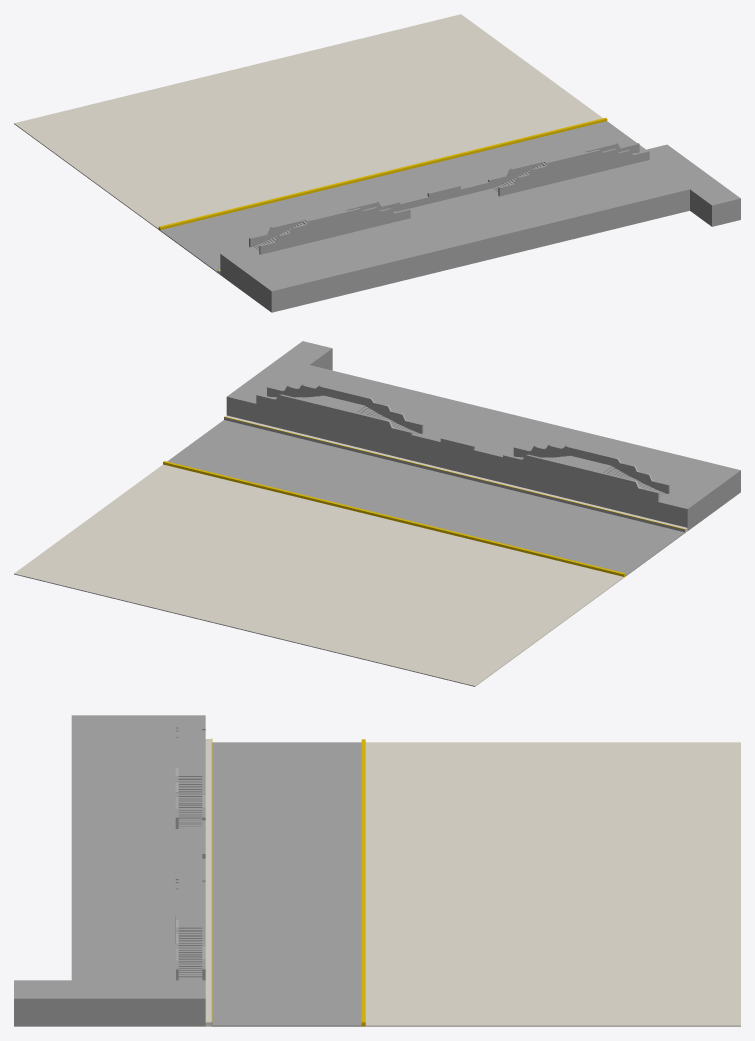
File: Calle_principal.fbx
3 renders of one model, top to bottom at view 1: azimuth 30°, elevation 25°; view 2: azimuth 150°, elevation 25°; view 3: azimuth 270°, elevation 25°, orthographic. The views are drawn at different scales.
Parts seen in each view (by area): view 1: polySurface4, polySurface7, polySurface6; view 2: polySurface4, polySurface7, polySurface6; view 3: polySurface4, polySurface6, polySurface7.
Part boxes in pixels (box(x1,y1,x2,y2)): polySurface4: box(14, 14, 740, 312); polySurface7: box(249, 218, 316, 254); polySurface6: box(582, 143, 649, 173); polySurface4: box(14, 341, 740, 686); polySurface7: box(599, 456, 669, 501); polySurface6: box(256, 384, 326, 418); polySurface4: box(14, 715, 740, 1026); polySurface6: box(176, 916, 205, 980); polySurface7: box(176, 722, 205, 751).
Size of the model in its own units: 52.82 by 4.87 by 57.28.
